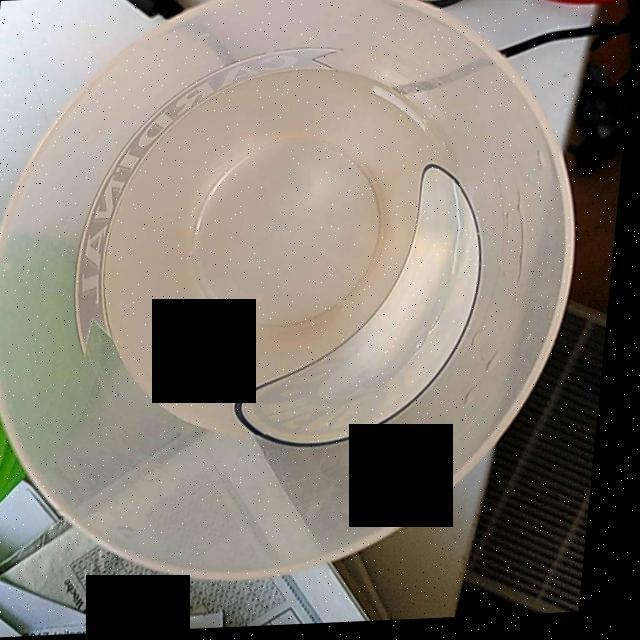water: (96, 79, 462, 433)
